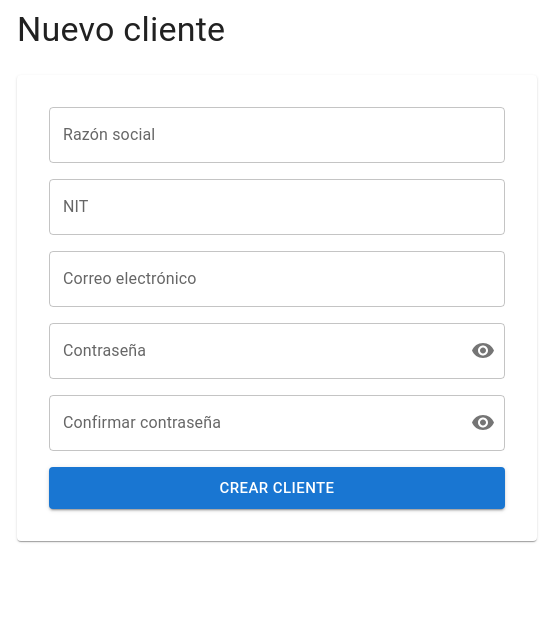
Test case: ClienteNuevoPage › un 409 muestra el title del problema
In the field labelled "Razón social": (277, 135) 49,107 -> 505,163, type "Granja Demo S.A.C."
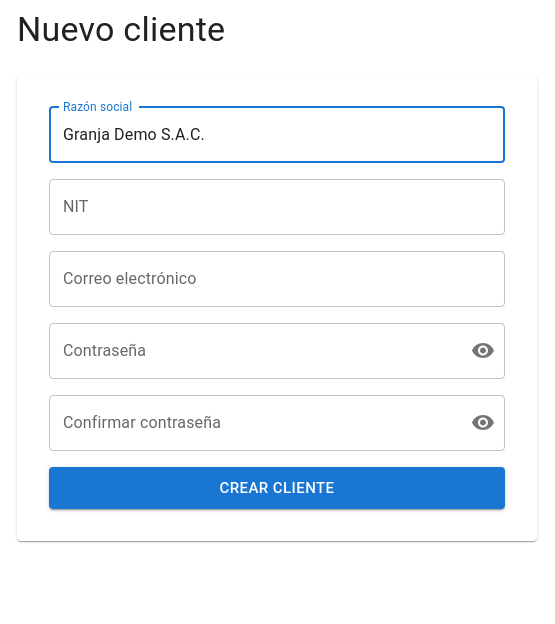
In the field labelled "NIT": (277, 207) 49,179 -> 505,235, type "20123456789"
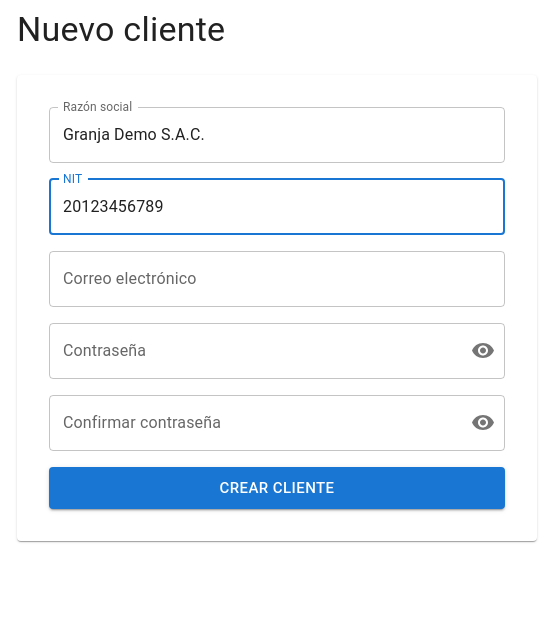
In the field labelled "Correo electrónico": (277, 279) 49,251 -> 505,307, type "cliente@icarus.test"
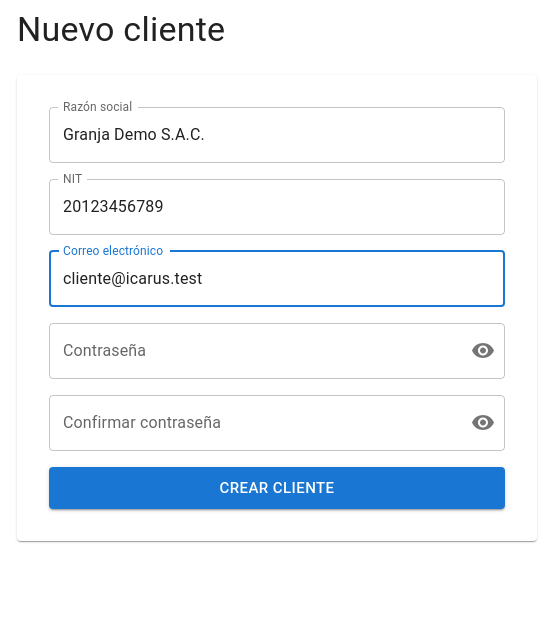
In the password field labelled "Contraseña": (252, 351) 49,323 -> 455,379, type "Clave-Larga-123456"
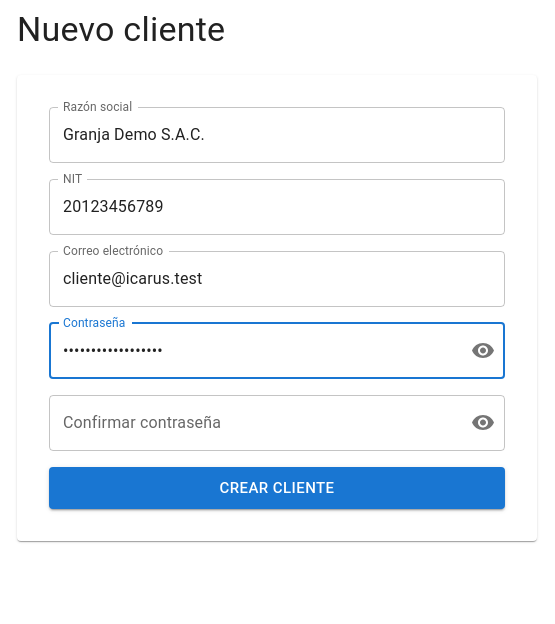
In the password field labelled "Confirmar contraseña": (252, 423) 49,395 -> 455,451, type "Clave-Larga-123456"
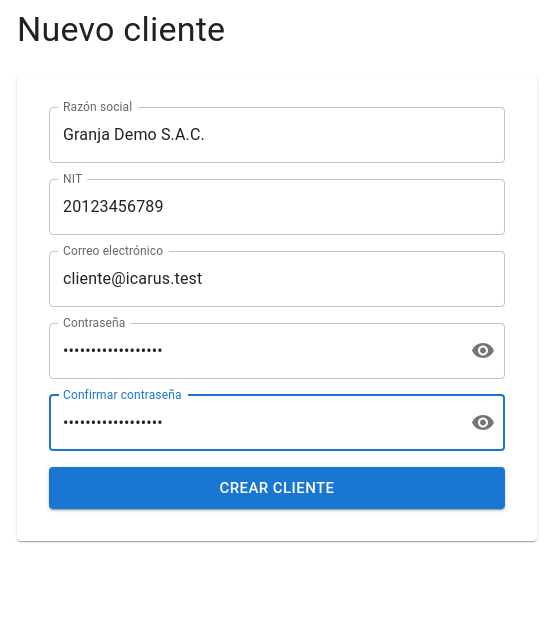
Click the button "Crear cliente": (277, 488) 49,467 -> 505,509
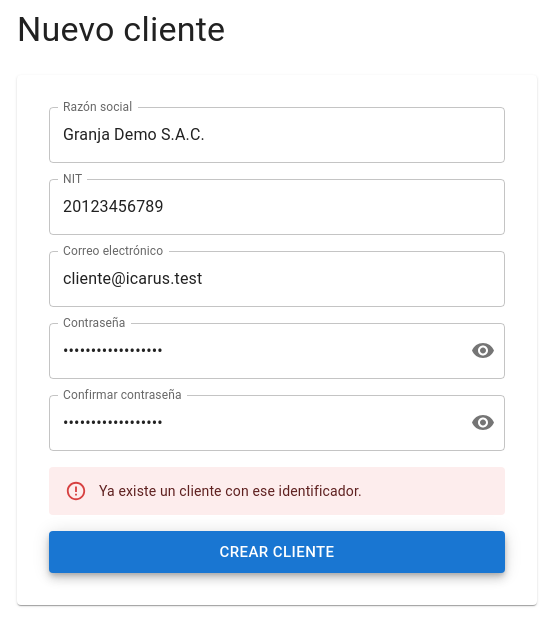
Check: the text "Ya existe un cliente con ese identificador." is shown, box 99,483 -> 362,499
